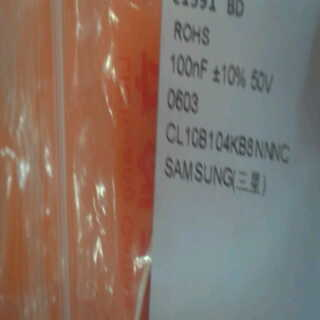100nF: (168, 50, 213, 88)
